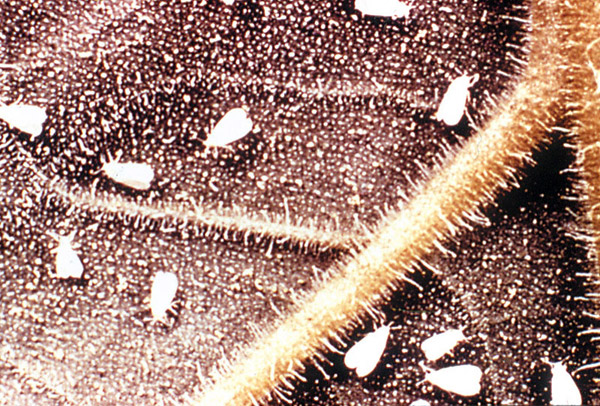whitefly: (344, 321, 394, 376), (200, 106, 254, 155), (95, 154, 156, 193), (433, 70, 474, 128), (542, 358, 583, 406), (421, 365, 480, 396), (149, 271, 181, 327), (420, 324, 467, 362), (48, 231, 84, 280), (1, 101, 46, 138)
